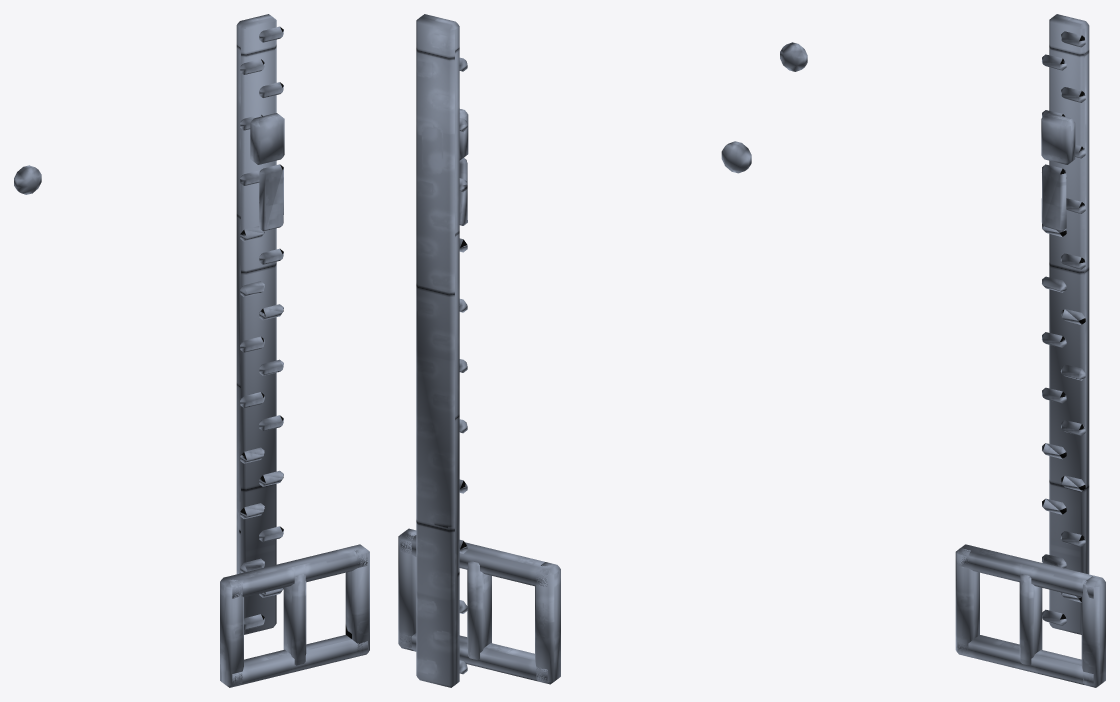
Rendered from Tano_Mameluco_Acero.fbx.
3 views of the same model, side by side, from view 1: azimuth 30°, elevation 25°; view 2: azimuth 150°, elevation 25°; view 3: azimuth 330°, elevation 25° (orthographic). The views are drawn at different scales.
Parts seen in each view (by area): view 1: Tano_Mameluco_Acero; view 2: Tano_Mameluco_Acero; view 3: Tano_Mameluco_Acero.
Boxes of the visible parts, box(x1,y1,x2,y2) form: Tano_Mameluco_Acero: box(14, 14, 369, 687); Tano_Mameluco_Acero: box(398, 14, 751, 687); Tano_Mameluco_Acero: box(780, 14, 1105, 687).
Size of the model in its own units: 1.01 by 1.79 by 0.2536.
